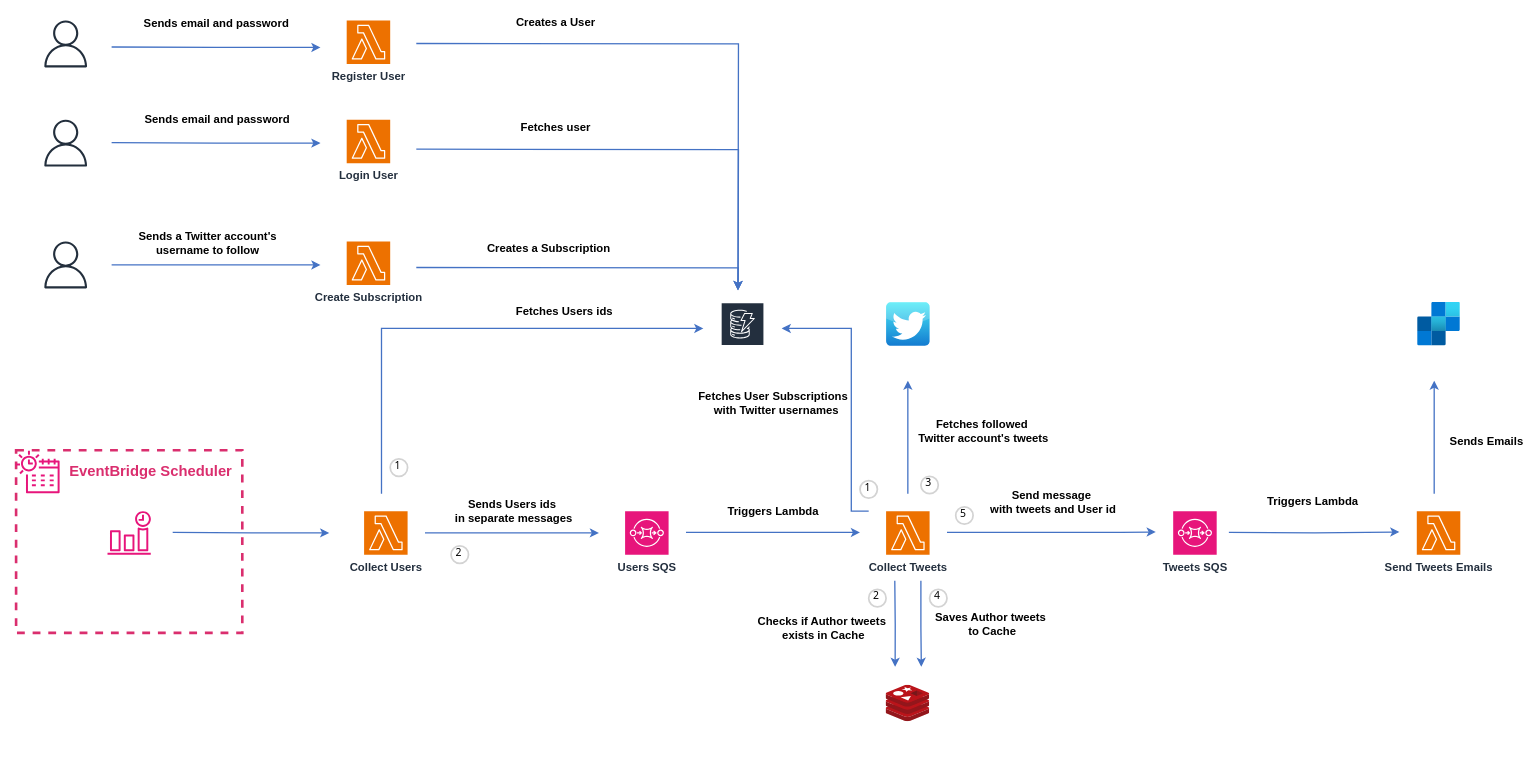
Some shapes in this 1538 by 757 pixel diagram are drawn without their labels. The centre of each missing label's shape, as x and y in pixels:
DynamoDB: (x=742, y=323)
Event (once a day): (x=129, y=532)
Redis: (x=907, y=703)
SendGrid: (x=1438, y=323)
Twitter: (x=907, y=323)
